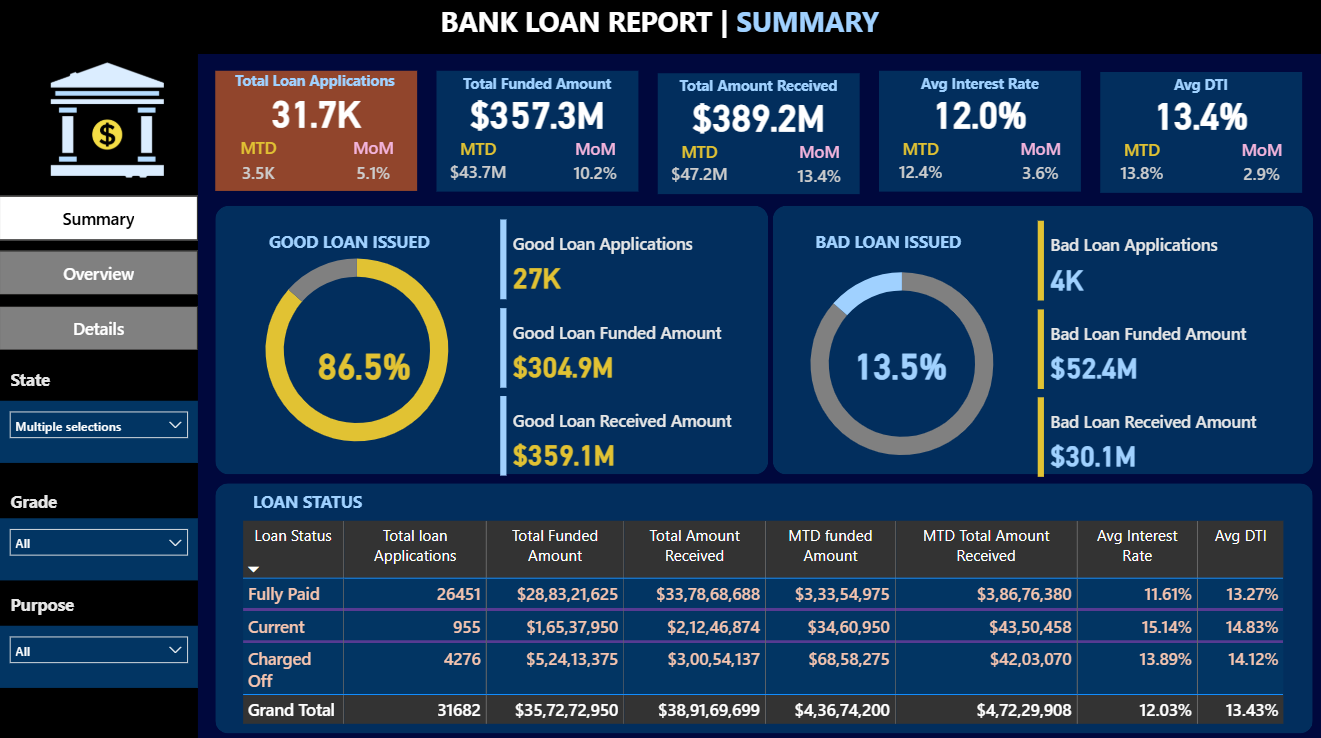

Layout of this report page (visuals, bound fields, positions):
{"tool":"powerbi","page":{"name":"Summary","canvas":[1280,720],"ordinal":0},"visuals":[{"type":"shape","box":[0,0,1280.3,55],"z":0},{"type":"shape","box":[208.6,70.3,194.9,116.3],"z":0,"group":"g1"},{"type":"shape","box":[422.3,71.3,194.9,116.6],"z":0,"group":"g2"},{"type":"shape","box":[849.7,71.3,194.9,116.6],"z":0,"group":"g4"},{"type":"shape","box":[1063.5,72.7,194.9,116.6],"z":0,"group":"g5"},{"type":"shape","box":[636,74.1,194.9,116.6],"z":0,"group":"g3"},{"type":"card","fields":{"Values":["financial_loan.Total loan Applications"]},"box":[208.6,86.7,194.9,46.5],"z":1000,"group":"g1"},{"type":"card","fields":{"Values":["financial_loan.Total Funded Amount"]},"box":[422.3,87.8,194.9,46.7],"z":1000,"group":"g2"},{"type":"card","fields":{"Values":["financial_loan.Avg Interest Rate"]},"box":[849.7,87.8,194.9,46.7],"z":1000,"group":"g4"},{"type":"card","fields":{"Values":["financial_loan.Avg DTI"]},"box":[1063.5,89.2,194.9,46.7],"z":1000,"group":"g5"},{"type":"card","fields":{"Values":["financial_loan.Total Amount Received"]},"box":[636,90.6,194.9,46.7],"z":1000,"group":"g3"},{"type":"shape","box":[208.6,201.7,533.8,259.3],"z":1000},{"type":"shape","box":[0,54.9,192.1,665.5],"z":2000},{"type":"textbox","box":[220,65.9,170.2,38.3],"z":2000,"group":"g1"},{"type":"textbox","box":[434.6,68.6,170.2,38.4],"z":2000,"group":"g2"},{"type":"textbox","box":[862,68.6,170.2,38.4],"z":2000,"group":"g4"},{"type":"textbox","box":[1075.8,70,170.2,38.4],"z":2000,"group":"g5"},{"type":"textbox","box":[648.3,71.4,170.2,38.4],"z":2000,"group":"g3"},{"type":"card","title":"MTD","fields":{"Values":["financial_loan.MTD loan Applications"]},"box":[220.9,133.3,59,53.4],"z":3000,"group":"g1"},{"type":"card","title":"MTD","fields":{"Values":["financial_loan.MTD funded Amount"]},"box":[425.1,135.4,75.5,49.4],"z":3000,"group":"g2"},{"type":"card","title":"MTD","fields":{"Values":["financial_loan.MTD Avg Int Rate"]},"box":[852.5,135.4,75.5,49.4],"z":3000,"group":"g4"},{"type":"card","title":"MTD","fields":{"Values":["financial_loan.MTD Avg DTI"]},"box":[1066.3,136.8,75.5,49.4],"z":3000,"group":"g5"},{"type":"card","title":"MTD","fields":{"Values":["financial_loan.MTD Total Amount Received"]},"box":[638.8,138.2,75.5,49.4],"z":3000,"group":"g3"},{"type":"card","fields":{"Values":["financial_loan.Good Loan %"]},"box":[274.4,330.7,157.8,46.7],"z":3000},{"type":"card","title":"MoM","fields":{"Values":["financial_loan.MOM Loan Application"]},"box":[332.1,133.3,59,53.4],"z":4000,"group":"g1"},{"type":"card","title":"MoM","fields":{"Values":["financial_loan.MOM Total Funded Amount"]},"box":[545.8,135.4,60.4,52.1],"z":4000,"group":"g2"},{"type":"card","title":"MoM","fields":{"Values":["financial_loan.MOM Avg int rate"]},"box":[973.5,135.4,63.1,52.1],"z":4000,"group":"g4"},{"type":"card","title":"MoM","fields":{"Values":["financial_loan.MOM Avg DTI"]},"box":[1187.3,136.8,63.1,52.1],"z":4000,"group":"g5"},{"type":"card","title":"MoM","fields":{"Values":["financial_loan.MOM Total Amout Received"]},"box":[759.8,138.2,63.1,52.1],"z":4000,"group":"g3"},{"type":"textbox","box":[241.5,219.6,193.5,38.4],"z":4000},{"type":"textbox","box":[421.3,0,436.4,50.8],"z":5000},{"type":"group","id":"g1","title":"Group 1","box":[208.6,65.9,194.9,120.8],"z":6000},{"type":"group","id":"g2","title":"Group 1","box":[422.3,68.6,194.9,119.4],"z":7000},{"type":"group","id":"g3","title":"Group 1","box":[636,71.4,194.9,119.4],"z":8000},{"type":"group","id":"g4","title":"Group 1","box":[849.7,68.6,194.9,119.4],"z":9000},{"type":"group","id":"g5","title":"Group 1","box":[1063.5,70,194.9,119.4],"z":10000},{"type":"shape","box":[746.5,201.7,521.4,259.3],"z":11000},{"type":"donutChart","fields":{"Category":["financial_loan.Good vs Bad Loan"],"Y":["financial_loan.Total loan Applications"]},"box":[220.9,225,249.7,230.5],"z":12000},{"type":"cardVisual","fields":{"Data":["financial_loan.Good Loan Applications","financial_loan.Good Loan Funded Amount","financial_loan.Good Loan Received Amount"]},"box":[478.9,209.9,260.7,259.3],"z":13000},{"type":"donutChart","fields":{"Category":["financial_loan.Good vs Bad Loan"],"Y":["financial_loan.Total loan Applications"]},"box":[746.5,238.8,249.7,230.5],"z":14000},{"type":"textbox","box":[760.2,219.6,196.2,38.4],"z":15000},{"type":"card","fields":{"Values":["financial_loan.Bad Loan %"]},"box":[791.8,330.7,157.8,46.7],"z":16000},{"type":"cardVisual","fields":{"Data":["financial_loan.Bad Loan Applications","financial_loan.Bad Loan Funded Amount","financial_loan.Bad Loan Received Amount"]},"box":[997.6,211.3,260.7,259.3],"z":17000},{"type":"shape","box":[208.6,469.3,1059.4,241.5],"z":18000},{"type":"tableEx","fields":{"Values":["financial_loan.loan_status","financial_loan.Total loan Applications","financial_loan.Total Funded Amount","financial_loan.Total Amount Received","financial_loan.MTD funded Amount","financial_loan.MTD Total Amount Received","financial_loan.Avg Interest Rate","financial_loan.Avg DTI"]},"box":[229.2,500.9,1029.2,209.9],"z":19000},{"type":"textbox","box":[240.1,470.7,155.1,38.4],"z":20000},{"type":"group","id":"g6","title":"Group 2","box":[0,570.8,192.1,96.1],"z":21000},{"type":"slicer","fields":{"Values":["financial_loan.address_state"]},"box":[0,389.7,192.1,60.4],"z":22000,"group":"g8"},{"type":"group","id":"g7","title":"Group 3","box":[0,470.7,192.1,93.3],"z":22000},{"type":"group","id":"g8","title":"Group 4","box":[0,354,192.1,96.1],"z":23000},{"type":"textbox","box":[5.5,354,86.4,37],"z":23000,"group":"g8"},{"type":"pageNavigator","box":[0,192.1,192.1,149.6],"z":24000},{"type":"slicer","fields":{"Values":["financial_loan.grade"]},"box":[0,503.6,192.1,60.4],"z":24000,"group":"g7"},{"type":"image","box":[15.1,50.8,177,134.5],"z":25000},{"type":"slicer","fields":{"Values":["financial_loan.purpose"]},"box":[0,606.5,192.1,60.4],"z":25000,"group":"g6"},{"type":"textbox","box":[5.5,470.7,86.4,37],"z":26000,"group":"g7"},{"type":"textbox","box":[5.5,570.8,86.4,37],"z":26001,"group":"g6"}]}

Visuals, with their boxes in screenshot pixels (x1, y1, x2, y2), scaled from the page's 1280x720 canvas onto the 1321x738 screenshot:
shape: [0,0,1320,56]
shape: [215,72,416,191]
shape: [436,73,637,193]
shape: [877,73,1078,193]
shape: [1098,75,1299,194]
shape: [656,76,858,195]
card - financial_loan.Total loan Applications: [215,89,416,137]
card - financial_loan.Total Funded Amount: [436,90,637,138]
card - financial_loan.Avg Interest Rate: [877,90,1078,138]
card - financial_loan.Avg DTI: [1098,91,1299,139]
card - financial_loan.Total Amount Received: [656,93,858,141]
shape: [215,207,766,473]
shape: [0,56,198,737]
textbox: [227,68,403,107]
textbox: [449,70,624,110]
textbox: [890,70,1065,110]
textbox: [1110,72,1286,111]
textbox: [669,73,845,113]
"MTD" card: [228,137,289,191]
"MTD" card: [439,139,517,189]
"MTD" card: [880,139,958,189]
"MTD" card: [1100,140,1178,191]
"MTD" card: [659,142,737,192]
card - financial_loan.Good Loan %: [283,339,446,387]
"MoM" card: [343,137,404,191]
"MoM" card: [563,139,626,192]
"MoM" card: [1005,139,1070,192]
"MoM" card: [1225,140,1290,194]
"MoM" card: [784,142,849,195]
textbox: [249,225,449,264]
textbox: [435,0,885,52]
"Group 1" group: [215,68,416,191]
"Group 1" group: [436,70,637,193]
"Group 1" group: [656,73,858,196]
"Group 1" group: [877,70,1078,193]
"Group 1" group: [1098,72,1299,194]
shape: [770,207,1309,473]
donutChart - financial_loan.Good vs Bad Loan x financial_loan.Total loan Applications: [228,231,486,467]
cardVisual - financial_loan.Good Loan Applications x financial_loan.Good Loan Funded Amount: [494,215,763,481]
donutChart - financial_loan.Good vs Bad Loan x financial_loan.Total loan Applications: [770,245,1028,481]
textbox: [785,225,987,264]
card - financial_loan.Bad Loan %: [817,339,980,387]
cardVisual - financial_loan.Bad Loan Applications x financial_loan.Bad Loan Funded Amount: [1030,217,1299,482]
shape: [215,481,1309,729]
tableEx - financial_loan.loan_status x financial_loan.Total loan Applications: [237,513,1299,729]
textbox: [248,482,408,522]
"Group 2" group: [0,585,198,684]
slicer - financial_loan.address_state: [0,399,198,461]
"Group 3" group: [0,482,198,578]
"Group 4" group: [0,363,198,461]
textbox: [6,363,95,401]
pageNavigator: [0,197,198,350]
slicer - financial_loan.grade: [0,516,198,578]
image: [16,52,198,190]
slicer - financial_loan.purpose: [0,622,198,684]
textbox: [6,482,95,520]
textbox: [6,585,95,623]
